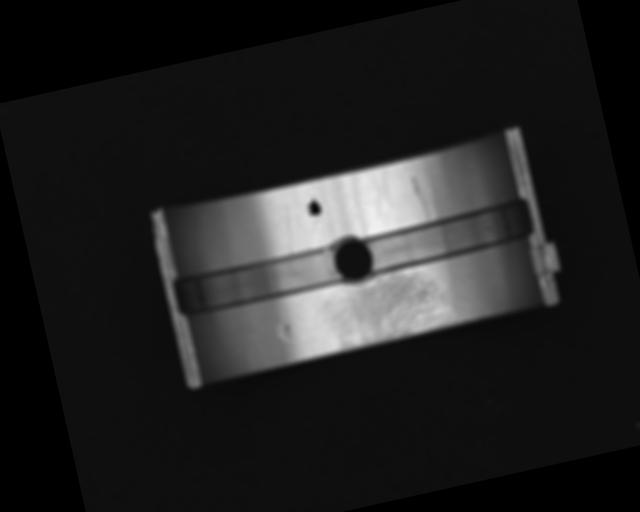blot: (303, 193, 324, 218)
bruise: (276, 322, 293, 343)
gap: (364, 198, 537, 274), (171, 242, 344, 318)
hole: (327, 229, 378, 288)
nick: (408, 171, 439, 221), (280, 207, 298, 254)
scratch: (314, 262, 457, 353)
